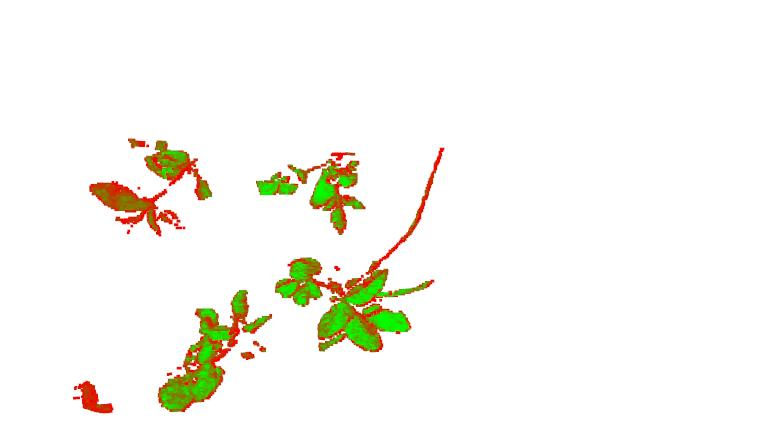mungbean: (274, 257, 435, 354), (157, 288, 274, 414), (87, 137, 214, 237), (255, 151, 374, 234)
